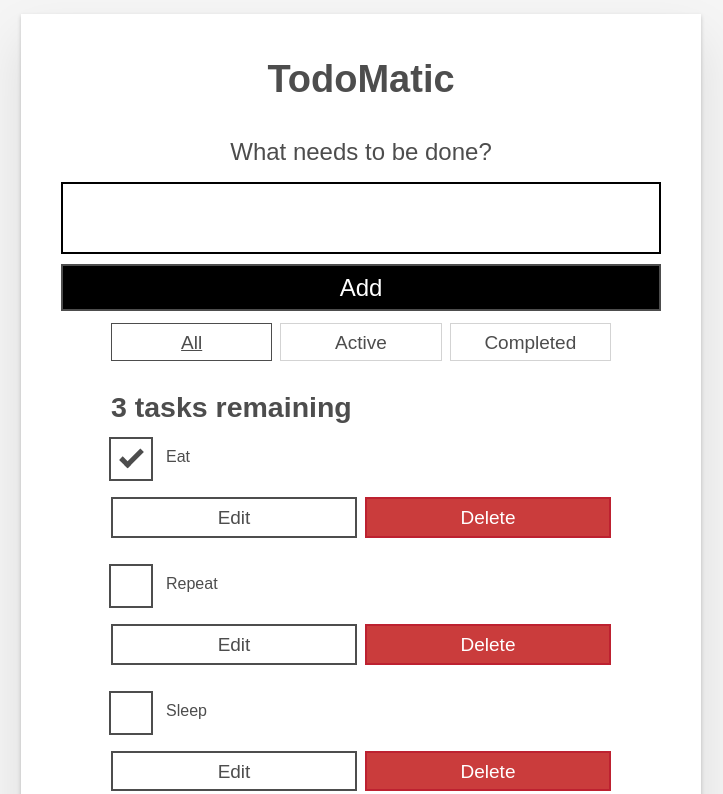
should check the functionality of todomatic › should be able to delete a task
What coordinates should you click on to do the following:
click the button with test id "deletebuttontodo-2"
I would click on:
 (488, 771)
Its box is x1=365 y1=751 x2=611 y2=791.
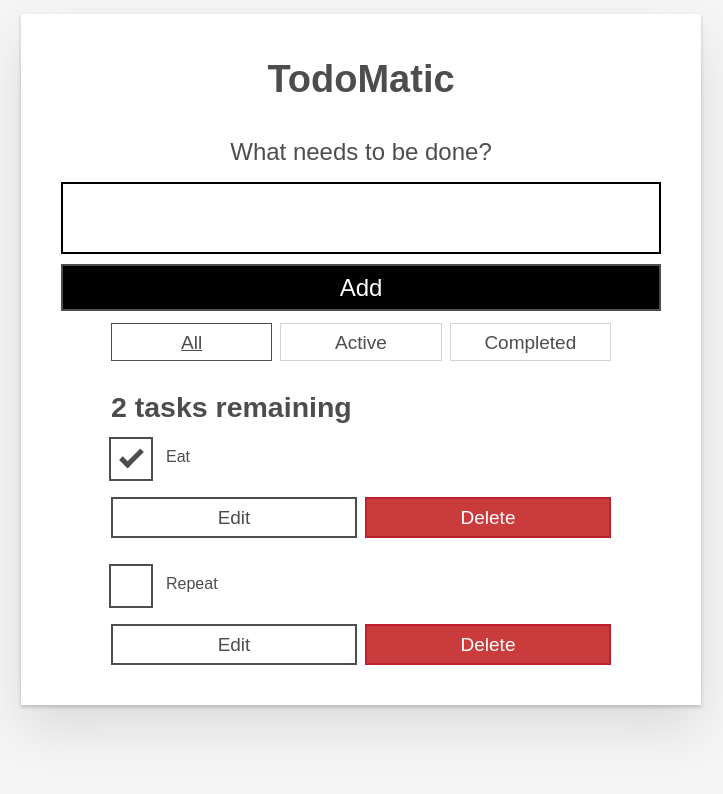
Expected: the label with test id "Eat" reads "Eat", x1=166 y1=448 x2=190 y2=465
Now the number of list items is 2, box x1=111 y1=439 x2=611 y2=538; x1=111 y1=566 x2=611 y2=665
